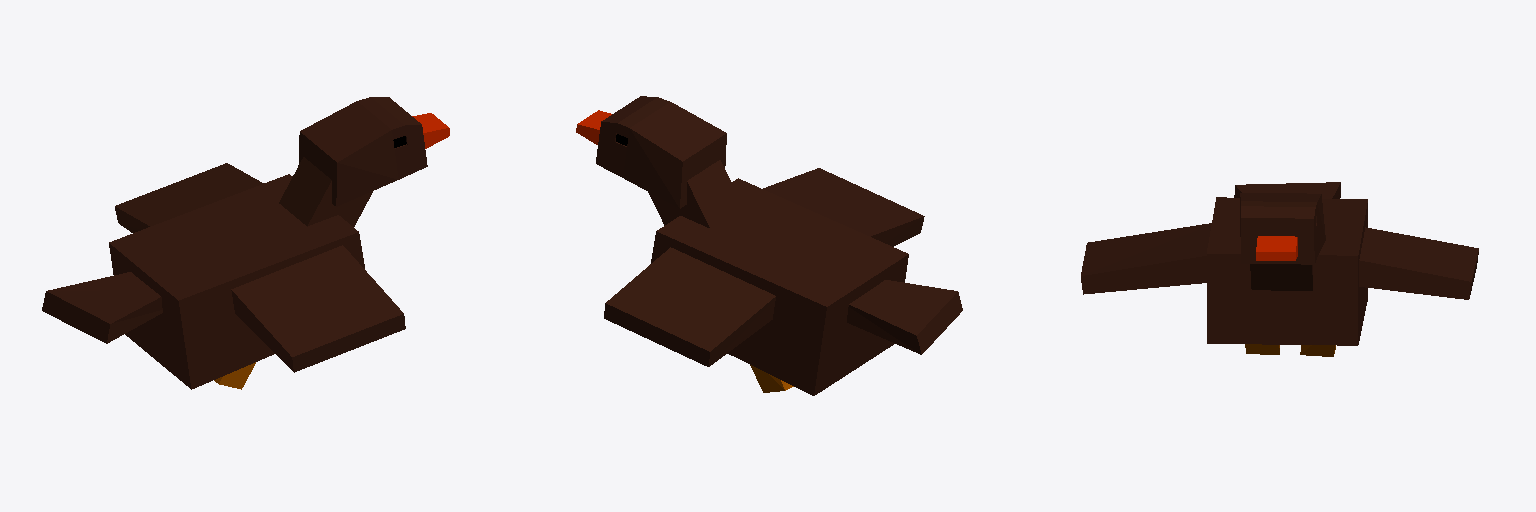
File: passarinho.obj
The picture shows the model from 3 angles: view 1: azimuth 30°, elevation 25°; view 2: azimuth 150°, elevation 25°; view 3: azimuth 270°, elevation 25°; orthographic projection.
Parts seen in each view (by area): view 1: Cube.000_Cube.018; view 2: Cube.000_Cube.018; view 3: Cube.000_Cube.018.
Part boxes in pixels (left/top/right/bottom): Cube.000_Cube.018: left=42, top=97, right=449, bottom=389; Cube.000_Cube.018: left=576, top=96, right=962, bottom=395; Cube.000_Cube.018: left=1081, top=182, right=1478, bottom=356.
Size of the model in its own units: 0.1779 by 0.1049 by 0.167.